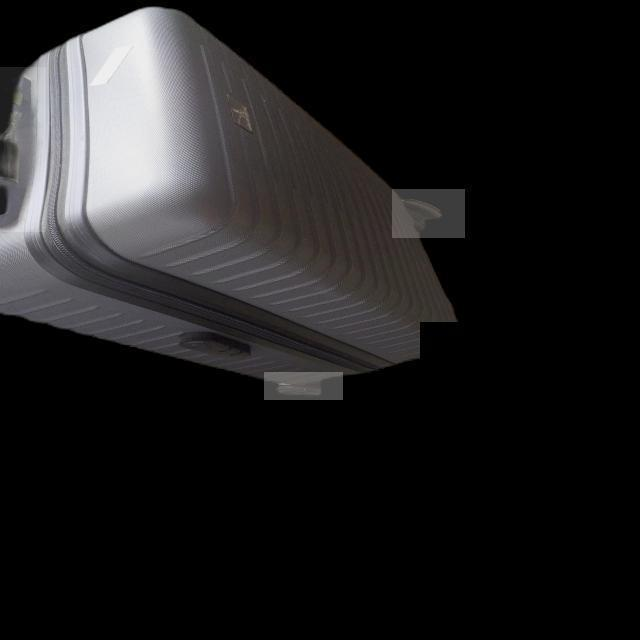Suitcase: (1, 3, 461, 401)
